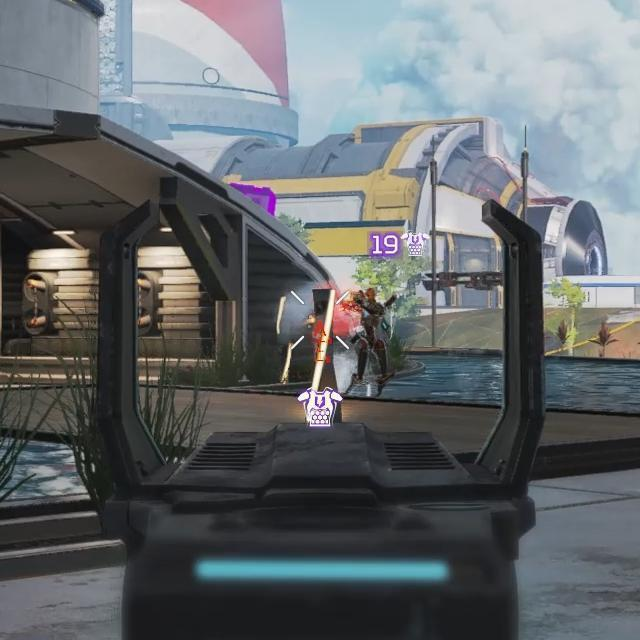avatar: (341, 285, 400, 398)
